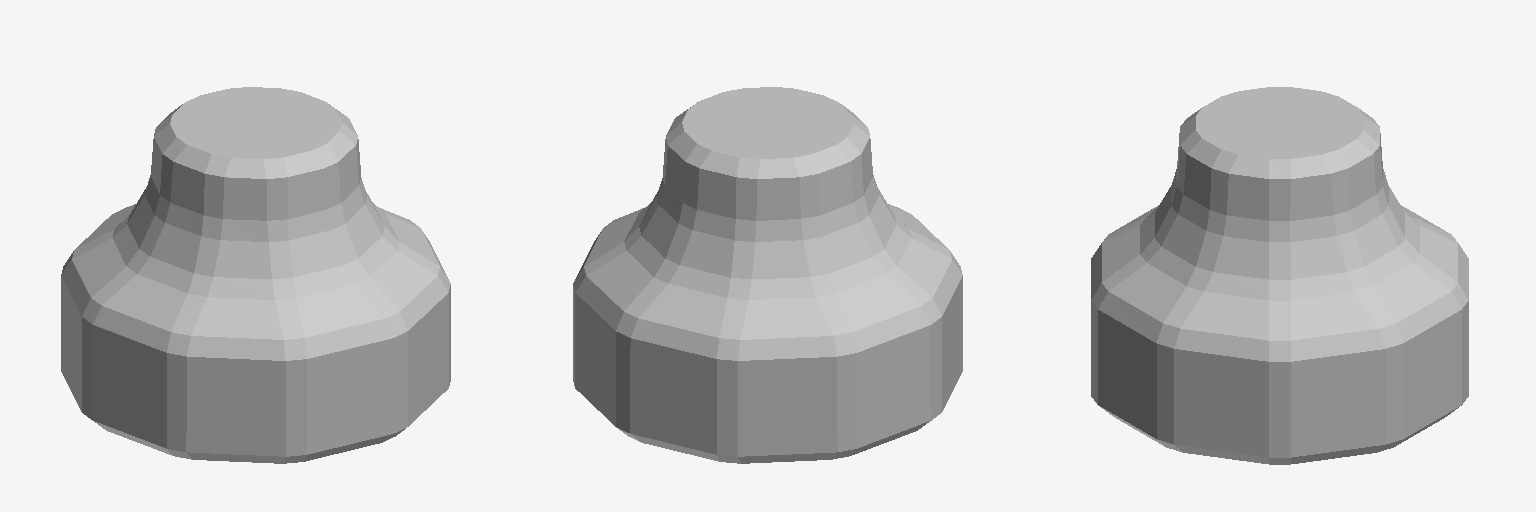
File: StrangeBlock.obj
3 renders of one model, left to right at view 1: azimuth 30°, elevation 25°; view 2: azimuth 150°, elevation 25°; view 3: azimuth 270°, elevation 25°, orthographic.
Visible parts, largest first — view 1: pCylinder1; view 2: pCylinder1; view 3: pCylinder1.
Part boxes in pixels (bbox=[...]): pCylinder1: bbox=[61, 87, 450, 463]; pCylinder1: bbox=[573, 87, 962, 463]; pCylinder1: bbox=[1091, 87, 1468, 464].
Size of the model in its own units: 3.74 by 2.81 by 3.62.